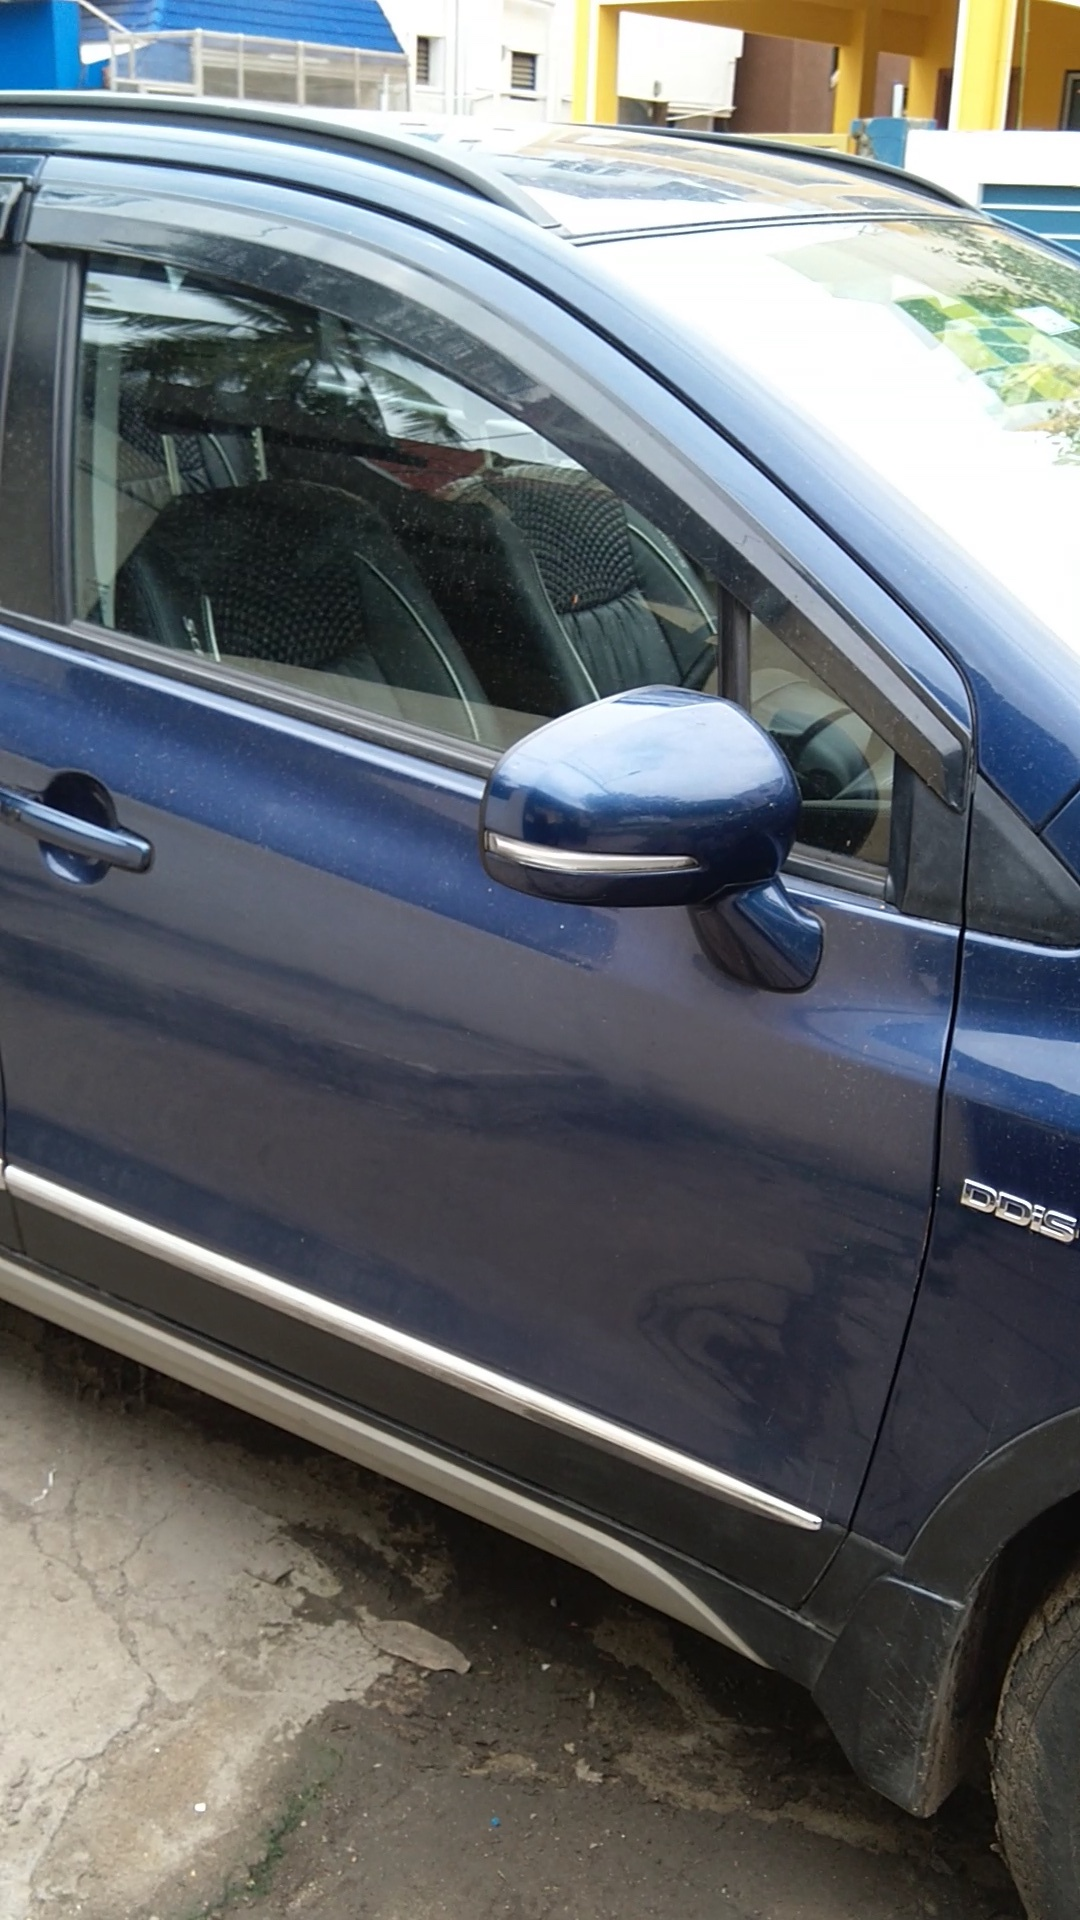ovr_mirror: (464, 665, 831, 1033)
